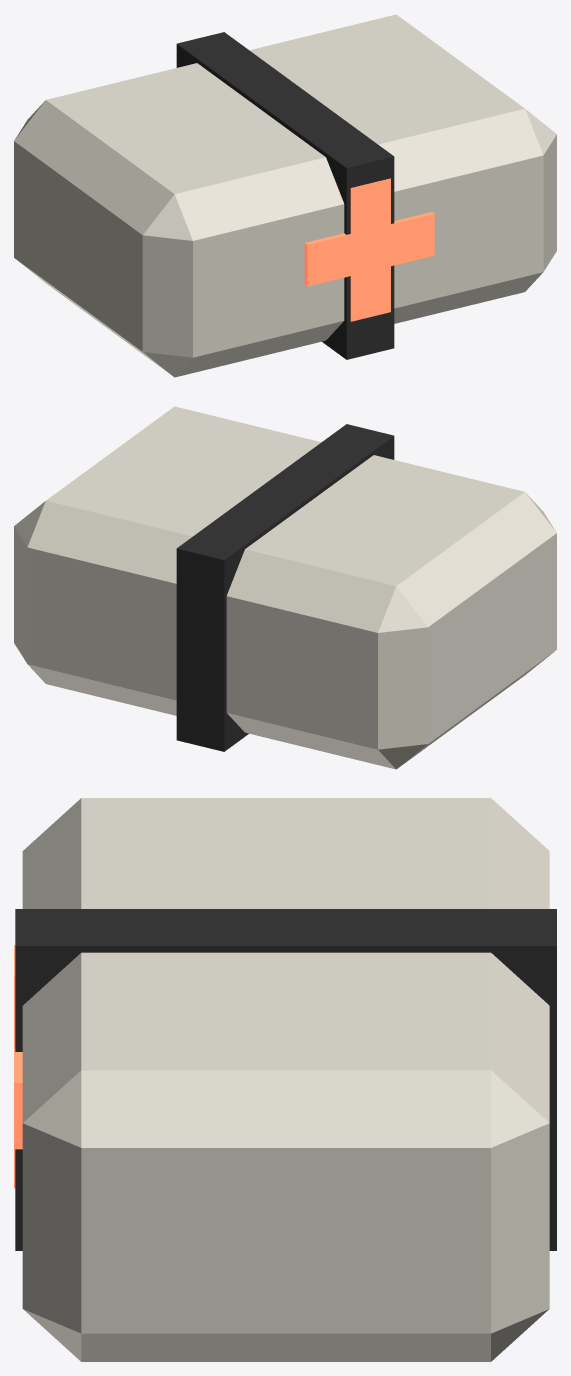
Rendered from salvage_med_pack.glb.
3 views of the same model, one above another, from view 1: azimuth 30°, elevation 25°; view 2: azimuth 150°, elevation 25°; view 3: azimuth 270°, elevation 25° (orthographic). The views are drawn at different scales.
Visible parts, largest first — view 1: salvage_med_pack; view 2: salvage_med_pack; view 3: salvage_med_pack.
Boxes of the visible parts, x1,y1,x2,y2 form: salvage_med_pack: (14,14,556,377); salvage_med_pack: (14,406,556,769); salvage_med_pack: (14,798,556,1361).
Size of the model in its own units: 0.26 by 0.115 by 0.1855.
